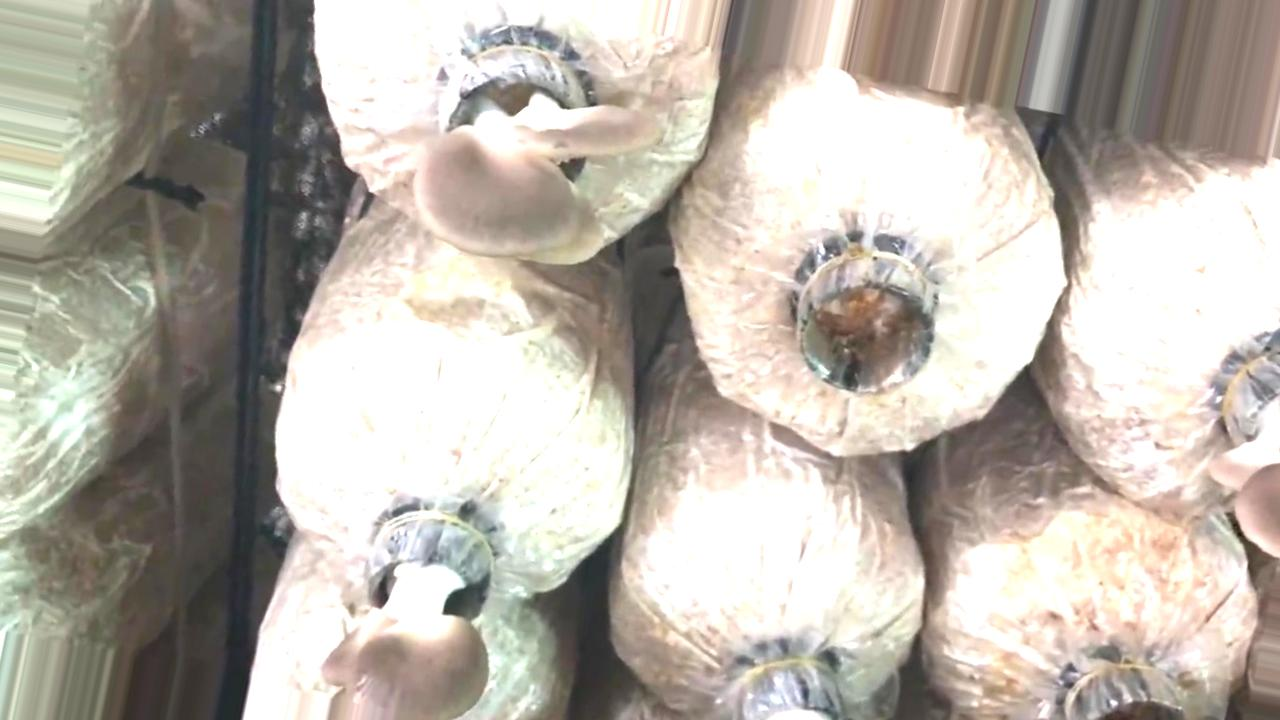nam: (409, 31, 668, 268), (321, 499, 493, 720), (1209, 341, 1280, 554)
